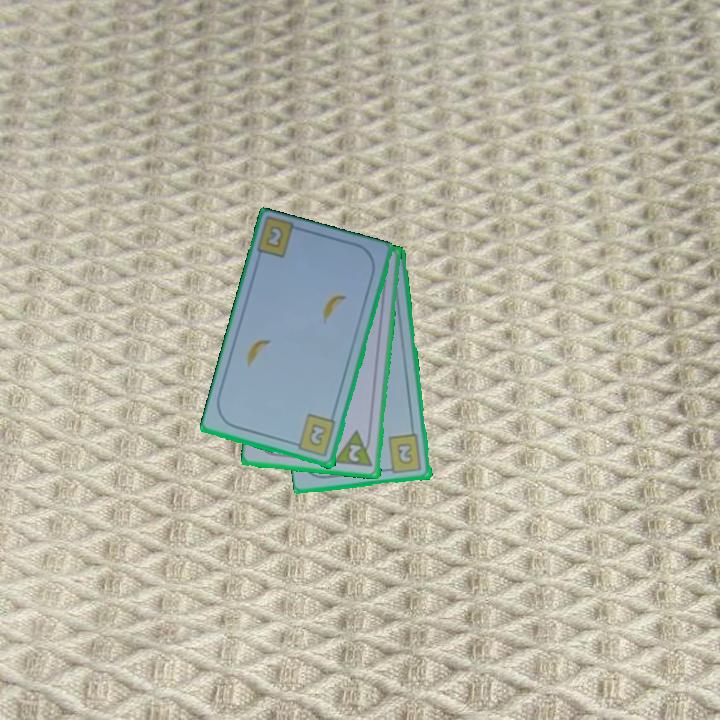2b: (289, 411, 338, 460), (382, 431, 424, 476), (262, 222, 286, 251)
2p: (332, 427, 376, 470)
